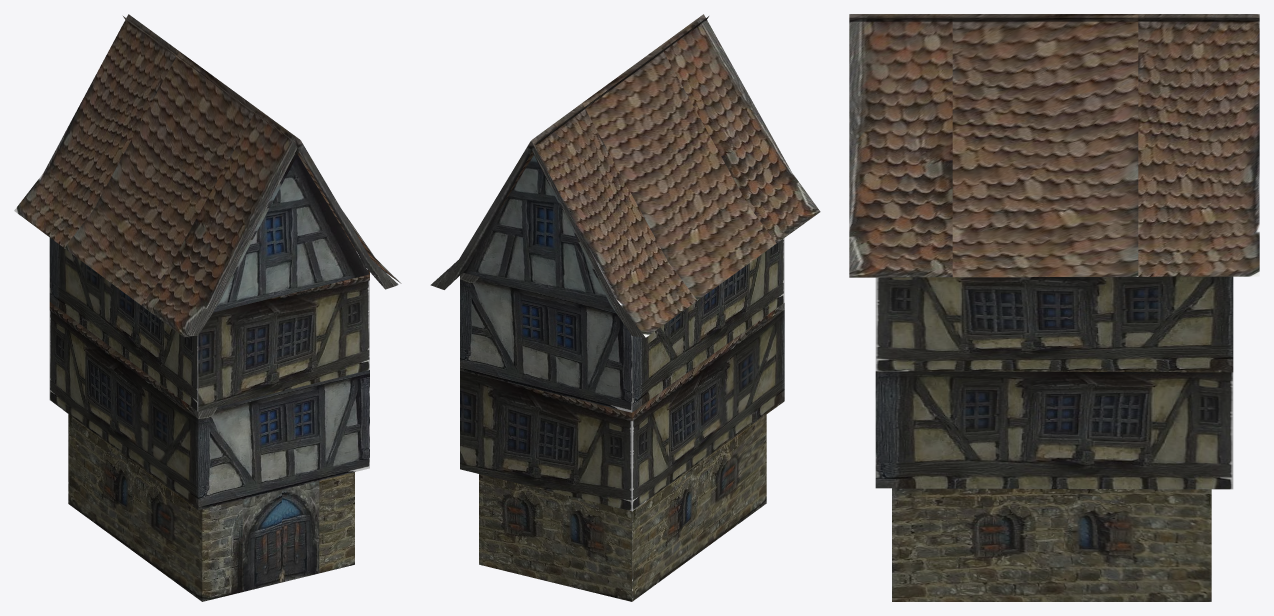
3 renders of one model, left to right at view 1: azimuth 30°, elevation 25°; view 2: azimuth 150°, elevation 25°; view 3: azimuth 270°, elevation 25°, orthographic. The views are drawn at different scales.
Visible parts, largest first — view 1: h5.002; view 2: h5.002; view 3: h5.002.
Boxes of the visible parts, left/top/right/bottom form: h5.002: left=14, top=14, right=401, bottom=601; h5.002: left=430, top=14, right=820, bottom=601; h5.002: left=849, top=14, right=1259, bottom=601.
Bounding box in the file's own units: 1.46 × 2.91 × 2.
Materials: 1 (1 with a texture image).
